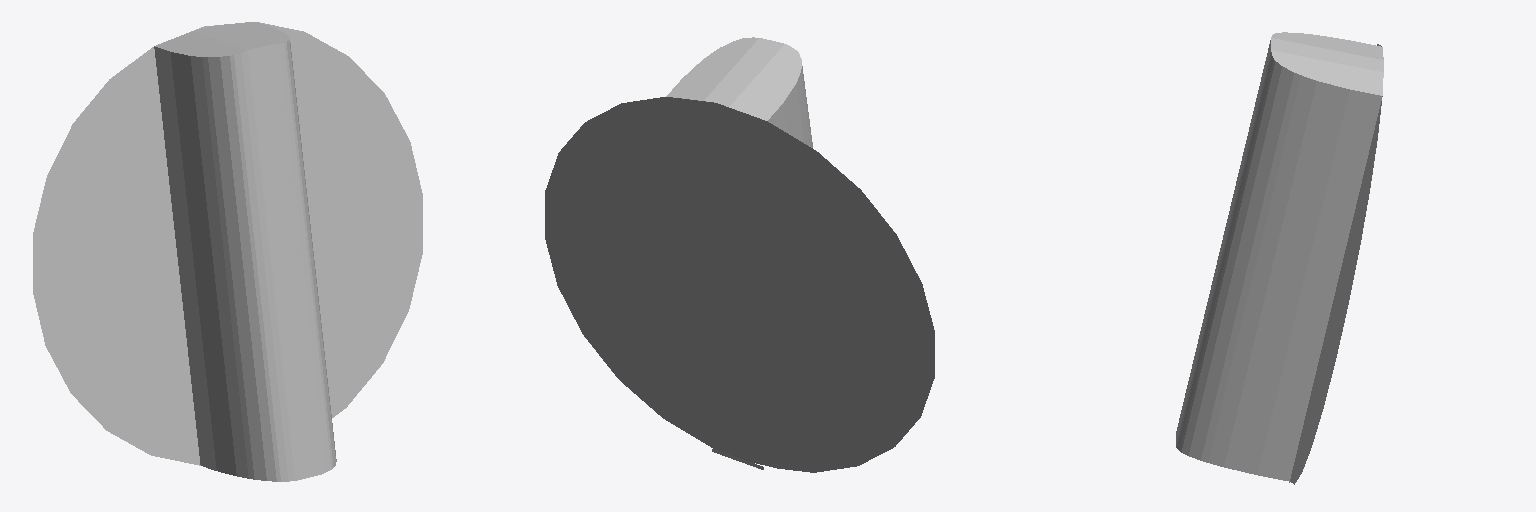
Rendered from original-31.obj.
The picture shows the model from 3 angles: view 1: azimuth 30°, elevation 25°; view 2: azimuth 150°, elevation 25°; view 3: azimuth 270°, elevation 25°; orthographic projection.
Parts seen in each view (by area): view 1: mesh6/mesh6-geometry/material_1#mesh6-geometry; view 2: mesh6/mesh6-geometry/material_1#mesh6-geometry; view 3: mesh6/mesh6-geometry/material_1#mesh6-geometry.
Boxes of the visible parts, box(x1,y1,x2,y2) form: mesh6/mesh6-geometry/material_1#mesh6-geometry: box(33, 22, 422, 481); mesh6/mesh6-geometry/material_1#mesh6-geometry: box(545, 37, 934, 472); mesh6/mesh6-geometry/material_1#mesh6-geometry: box(1176, 32, 1383, 484).
Size of the model in its own units: 0.0532 by 0.0552 by 0.0246.